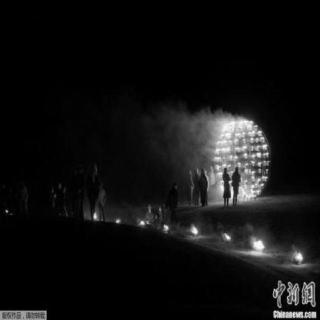Fire: (210, 112, 272, 202), (220, 227, 237, 246), (188, 218, 202, 238), (294, 242, 304, 264), (161, 220, 168, 234), (90, 210, 98, 222), (139, 215, 145, 228), (115, 216, 122, 226)
